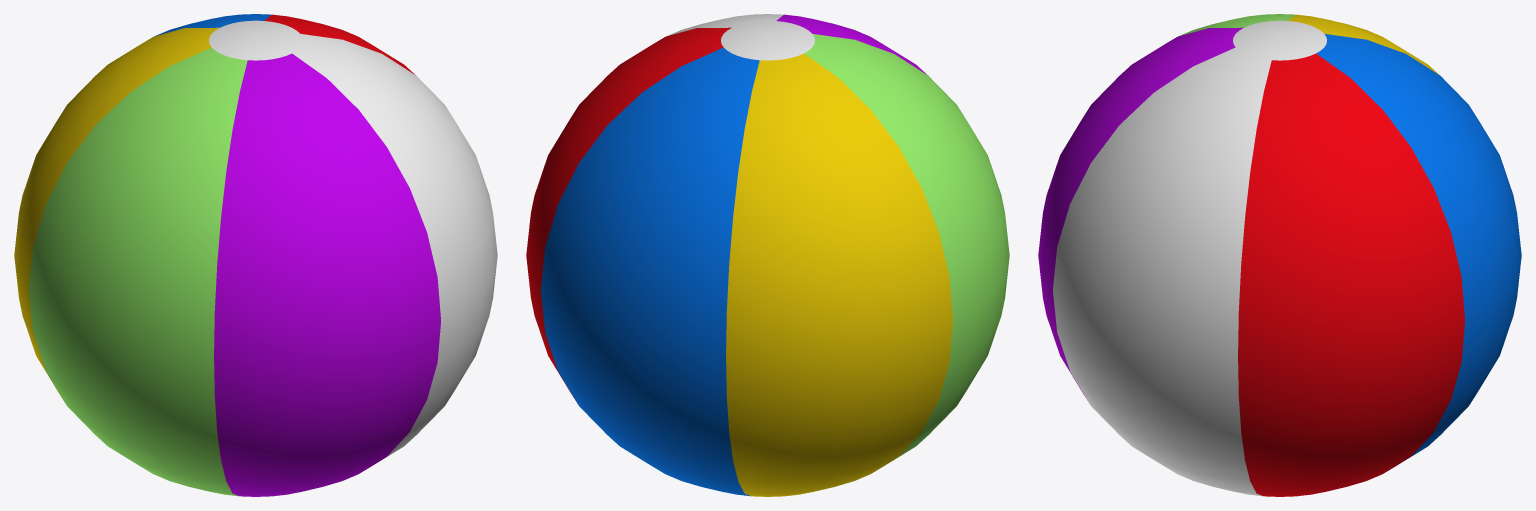
The model's file is Beach Ball.fbx.
3 renders of one model, left to right at view 1: azimuth 30°, elevation 25°; view 2: azimuth 150°, elevation 25°; view 3: azimuth 270°, elevation 25°, orthographic.
Parts seen in each view (by area): view 1: Sphere; view 2: Sphere; view 3: Sphere.
Boxes of the visible parts, x1=… form: Sphere: x1=14, y1=14, x2=497, y2=496; Sphere: x1=526, y1=14, x2=1009, y2=496; Sphere: x1=1038, y1=14, x2=1521, y2=496.
Bounding box in the file's own units: 200 × 200 × 200.
